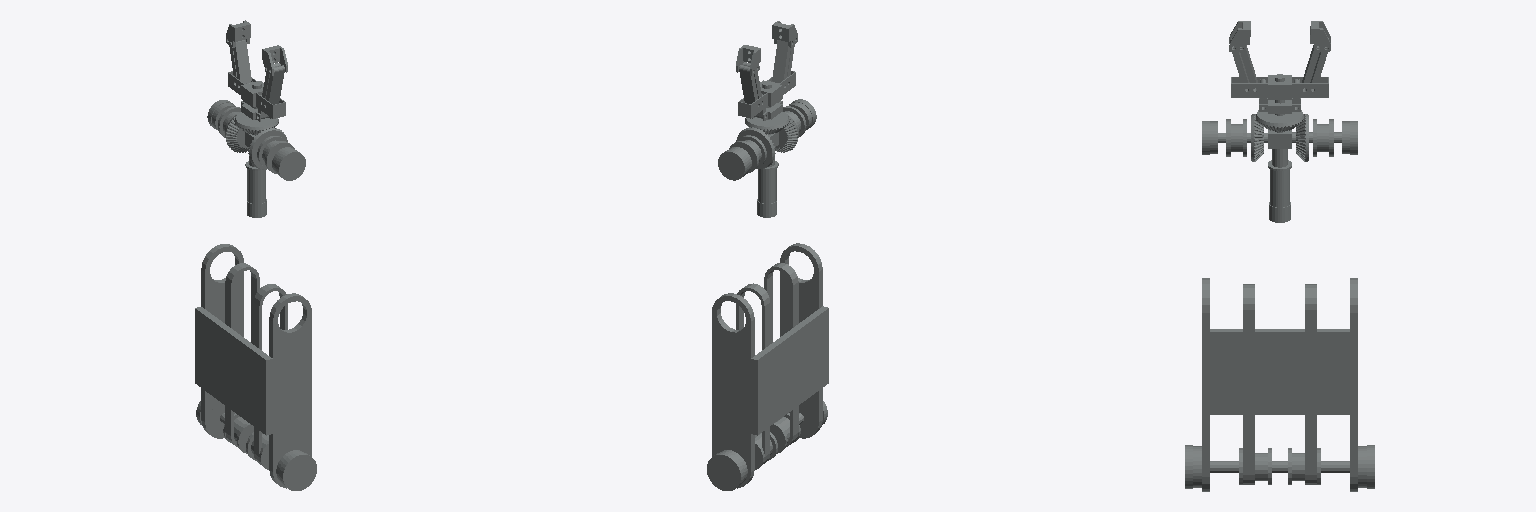
URDF robot description (ensamble_piezas_proyecto):
<?xml version="1.0" encoding="utf-8"?>
<!-- This URDF was automatically created by SolidWorks to URDF Exporter! Originally created by [author] ([email redacted]) 
     Commit Version: 1.6.0-4-g7f85cfe  Build Version: 1.6.7995.38578
     For more information, please see http://wiki.ros.org/sw_urdf_exporter -->
<robot
  name="ensamble_piezas_proyecto">
  <link
    name="base_link">
    <inertial>
      <origin
        xyz="3.5735E-16 0 0.095947"
        rpy="0 0 0" />
      <mass
        value="44.254" />
      <inertia
        ixx="0.2479"
        ixy="-4.8572E-17"
        ixz="-3.7943E-16"
        iyy="0.2479"
        iyz="6.0738E-17"
        izz="0.2121" />
    </inertial>
    <visual>
      <origin
        xyz="0 0 0"
        rpy="0 0 0" />
      <geometry>
        <mesh
          filename="package://ensamble_piezas_proyecto/meshes/base_link.STL" />
      </geometry>
      <material
        name="">
        <color
          rgba="0.52941 0.54902 0.54902 1" />
      </material>
    </visual>
    <collision>
      <origin
        xyz="0 0 0"
        rpy="0 0 0" />
      <geometry>
        <mesh
          filename="package://ensamble_piezas_proyecto/meshes/base_link.STL" />
      </geometry>
    </collision>
  </link>
  <link
    name="Link_1">
    <inertial>
      <origin
        xyz="-0.039302 1.3878E-16 -0.087462"
        rpy="0 0 0" />
      <mass
        value="5.9425" />
      <inertia
        ixx="0.048806"
        ixy="5.8113E-17"
        ixz="0.0077232"
        iyy="0.044867"
        iyz="6.0929E-17"
        izz="0.0629" />
    </inertial>
    <visual>
      <origin
        xyz="0 0 0"
        rpy="0 0 0" />
      <geometry>
        <mesh
          filename="package://ensamble_piezas_proyecto/meshes/Link_1.STL" />
      </geometry>
      <material
        name="">
        <color
          rgba="0.52941 0.54902 0.54902 1" />
      </material>
    </visual>
    <collision>
      <origin
        xyz="0 0 0"
        rpy="0 0 0" />
      <geometry>
        <mesh
          filename="package://ensamble_piezas_proyecto/meshes/Link_1.STL" />
      </geometry>
    </collision>
  </link>
  <joint
    name="joint_1"
    type="revolute">
    <origin
      xyz="0 0 0.362"
      rpy="0 0 0" />
    <parent
      link="base_link" />
    <child
      link="Link_1" />
    <axis
      xyz="0 1 0" />
    <limit
      lower="0"
      upper="1.5708"
      effort="10"
      velocity="2" />
  </joint>
  <link
    name="Link_2">
    <inertial>
      <origin
        xyz="-0.0096234 2.498E-16 0.078698"
        rpy="0 0 0" />
      <mass
        value="5.929" />
      <inertia
        ixx="0.020416"
        ixy="0"
        ixz="2.0444E-17"
        iyy="0.014952"
        iyz="6.053E-18"
        izz="0.007624" />
    </inertial>
    <visual>
      <origin
        xyz="0 0 0"
        rpy="0 0 0" />
      <geometry>
        <mesh
          filename="package://ensamble_piezas_proyecto/meshes/Link_2.STL" />
      </geometry>
      <material
        name="">
        <color
          rgba="0.52941 0.54902 0.54902 1" />
      </material>
    </visual>
    <collision>
      <origin
        xyz="0 0 0"
        rpy="0 0 0" />
      <geometry>
        <mesh
          filename="package://ensamble_piezas_proyecto/meshes/Link_2.STL" />
      </geometry>
    </collision>
  </link>
  <joint
    name="joint_2"
    type="revolute">
    <origin
      xyz="0 0 0"
      rpy="0 0 0" />
    <parent
      link="Link_1" />
    <child
      link="Link_2" />
    <axis
      xyz="0 1 0" />
    <limit
      lower="0"
      upper="1.5708"
      effort="10"
      velocity="2" />
  </joint>
  <link
    name="Link_3">
    <inertial>
      <origin
        xyz="-0.0066731 -2.2204E-16 0.073206"
        rpy="0 0 0" />
      <mass
        value="4.8479" />
      <inertia
        ixx="0.016471"
        ixy="4.3368E-19"
        ixz="2.2296E-17"
        iyy="0.011735"
        iyz="-2.1354E-19"
        izz="0.0062325" />
    </inertial>
    <visual>
      <origin
        xyz="0 0 0"
        rpy="0 0 0" />
      <geometry>
        <mesh
          filename="package://ensamble_piezas_proyecto/meshes/Link_3.STL" />
      </geometry>
      <material
        name="">
        <color
          rgba="0.52941 0.54902 0.54902 1" />
      </material>
    </visual>
    <collision>
      <origin
        xyz="0 0 0"
        rpy="0 0 0" />
      <geometry>
        <mesh
          filename="package://ensamble_piezas_proyecto/meshes/Link_3.STL" />
      </geometry>
    </collision>
  </link>
  <joint
    name="joint_3"
    type="revolute">
    <origin
      xyz="0 0 0.22"
      rpy="0 0 0" />
    <parent
      link="Link_2" />
    <child
      link="Link_3" />
    <axis
      xyz="0 1 0" />
    <limit
      lower="0"
      upper="1.5708"
      effort="10"
      velocity="2" />
  </joint>
  <link
    name="Link_4">
    <inertial>
      <origin
        xyz="6.4382E-12 9.5232E-11 -0.006005"
        rpy="0 0 0" />
      <mass
        value="2.1577" />
      <inertia
        ixx="0.00094682"
        ixy="-3.9213E-12"
        ixz="6.6287E-12"
        iyy="0.0009525"
        iyz="-5.2426E-13"
        izz="0.00047051" />
    </inertial>
    <visual>
      <origin
        xyz="0 0 0"
        rpy="0 0 0" />
      <geometry>
        <mesh
          filename="package://ensamble_piezas_proyecto/meshes/Link_4.STL" />
      </geometry>
      <material
        name="">
        <color
          rgba="0.52941 0.54902 0.54902 1" />
      </material>
    </visual>
    <collision>
      <origin
        xyz="0 0 0"
        rpy="0 0 0" />
      <geometry>
        <mesh
          filename="package://ensamble_piezas_proyecto/meshes/Link_4.STL" />
      </geometry>
    </collision>
  </link>
  <joint
    name="joint_4"
    type="revolute">
    <origin
      xyz="0 0 0.22"
      rpy="0 0 0" />
    <parent
      link="Link_3" />
    <child
      link="Link_4" />
    <axis
      xyz="0 1 0" />
    <limit
      lower="0"
      upper="1.5708"
      effort="10"
      velocity="2" />
  </joint>
  <link
    name="Link_5">
    <inertial>
      <origin
        xyz="8.1466E-05 7.3019E-05 0.047915"
        rpy="0 0 0" />
      <mass
        value="0.68289" />
      <inertia
        ixx="0.0002537"
        ixy="-1.2367E-19"
        ixz="3.3326E-20"
        iyy="0.00013449"
        iyz="-1.4444E-07"
        izz="0.00019153" />
    </inertial>
    <visual>
      <origin
        xyz="0 0 0"
        rpy="0 0 0" />
      <geometry>
        <mesh
          filename="package://ensamble_piezas_proyecto/meshes/Link_5.STL" />
      </geometry>
      <material
        name="">
        <color
          rgba="0.52941 0.54902 0.54902 1" />
      </material>
    </visual>
    <collision>
      <origin
        xyz="0 0 0"
        rpy="0 0 0" />
      <geometry>
        <mesh
          filename="package://ensamble_piezas_proyecto/meshes/Link_5.STL" />
      </geometry>
    </collision>
  </link>
  <joint
    name="joint_5"
    type="revolute">
    <origin
      xyz="0 0 0.039223"
      rpy="0 0 0" />
    <parent
      link="Link_4" />
    <child
      link="Link_5" />
    <axis
      xyz="0 0 -1" />
    <limit
      lower="0"
      upper="1.5708"
      effort="10"
      velocity="2" />
  </joint>
</robot>

--- Facts derived from the render (not from the file) ---
3 views of the same robot in one strip: view 1: azimuth 30°, elevation 25°; view 2: azimuth 150°, elevation 25°; view 3: azimuth 270°, elevation 25° (orthographic).
Robot: ensamble_piezas_proyecto — 6 links, 5 joints (5 revolute); root link base_link; default pose: all joints at 0.
Visible links, largest first — view 1: Link_2, Link_4, Link_5; view 2: Link_2, Link_4, Link_5; view 3: Link_2, Link_4, Link_5.
Boxes of the visible links, <box> form: Link_2: <box>195,244,316,490</box>; Link_4: <box>207,82,305,217</box>; Link_5: <box>226,20,287,121</box>; Link_2: <box>707,243,828,490</box>; Link_4: <box>718,81,816,217</box>; Link_5: <box>736,21,797,120</box>; Link_2: <box>1185,278,1374,491</box>; Link_4: <box>1202,74,1357,222</box>; Link_5: <box>1229,21,1330,113</box>.
Size in the robot's own frame: 0.07 by 0.23 by 0.6216 metres.
3 mesh visuals loaded from 6 distinct referenced files (3 binary STL); not drawn: 3 (reference not matched to a file when rendering).